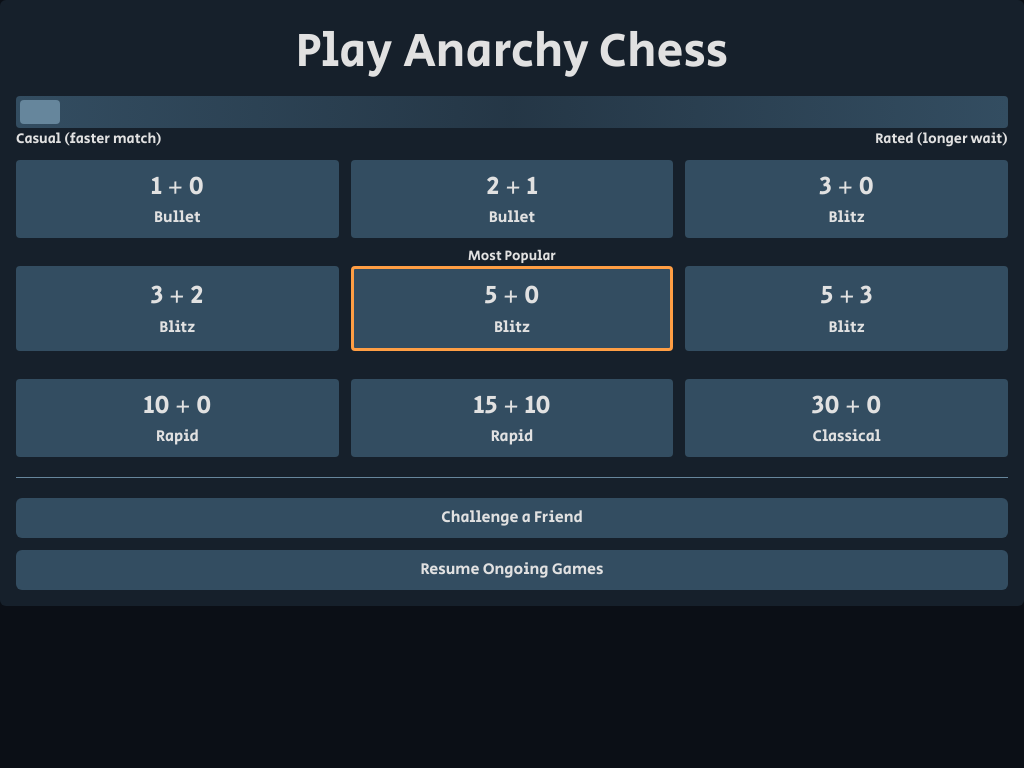
Scenario: PlayOptions › should open ongoing games popup when clicking on resumt ongoing games
Click the button "Resume Ongoing Games": (512, 570) [16,550,1008,590]
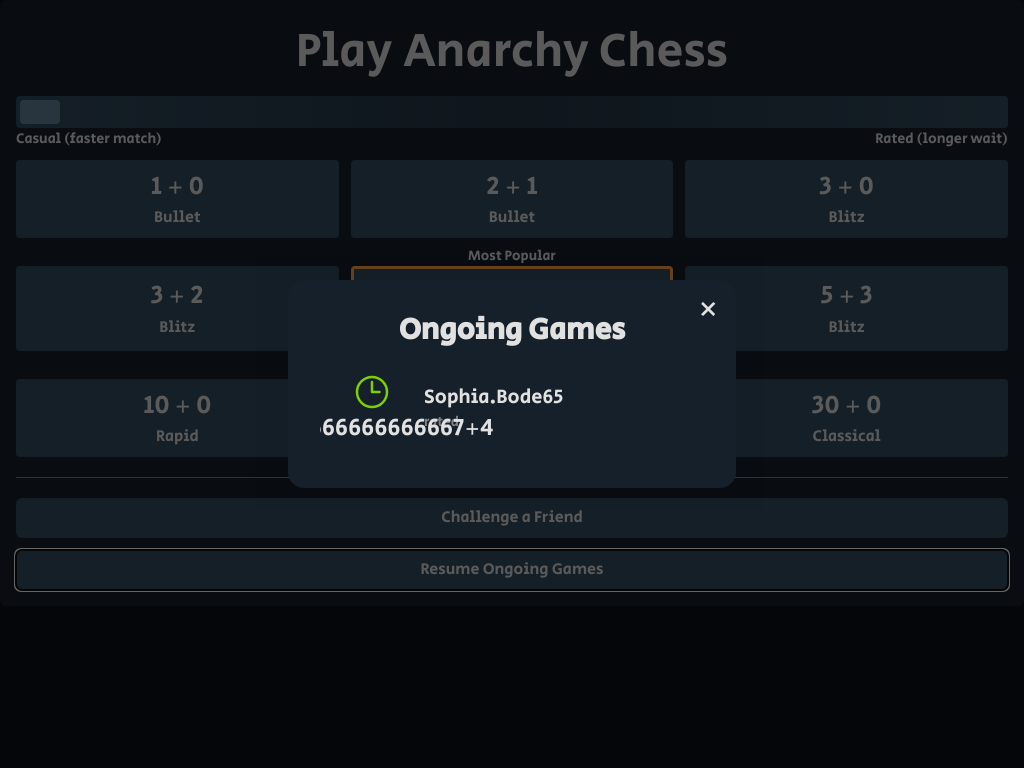
Expected: the element with test id "ongoingGamesPopup" is shown, [288,280,736,488]
